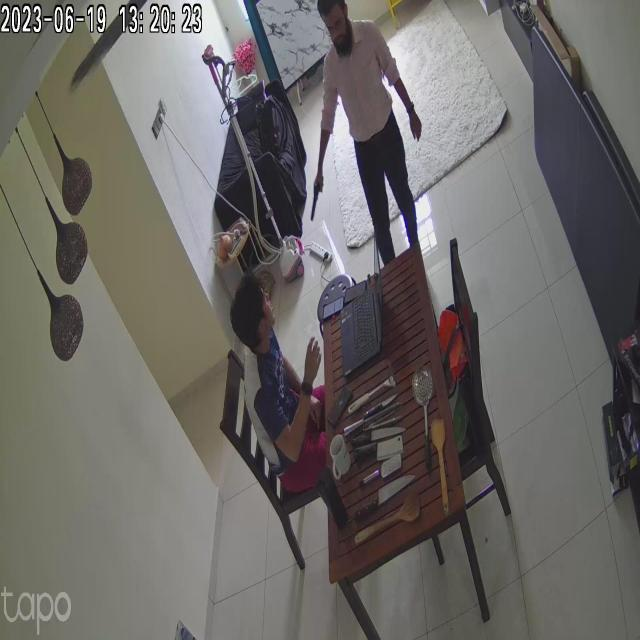Gun: (298, 182, 332, 226)
Knife: (346, 465, 422, 518)
